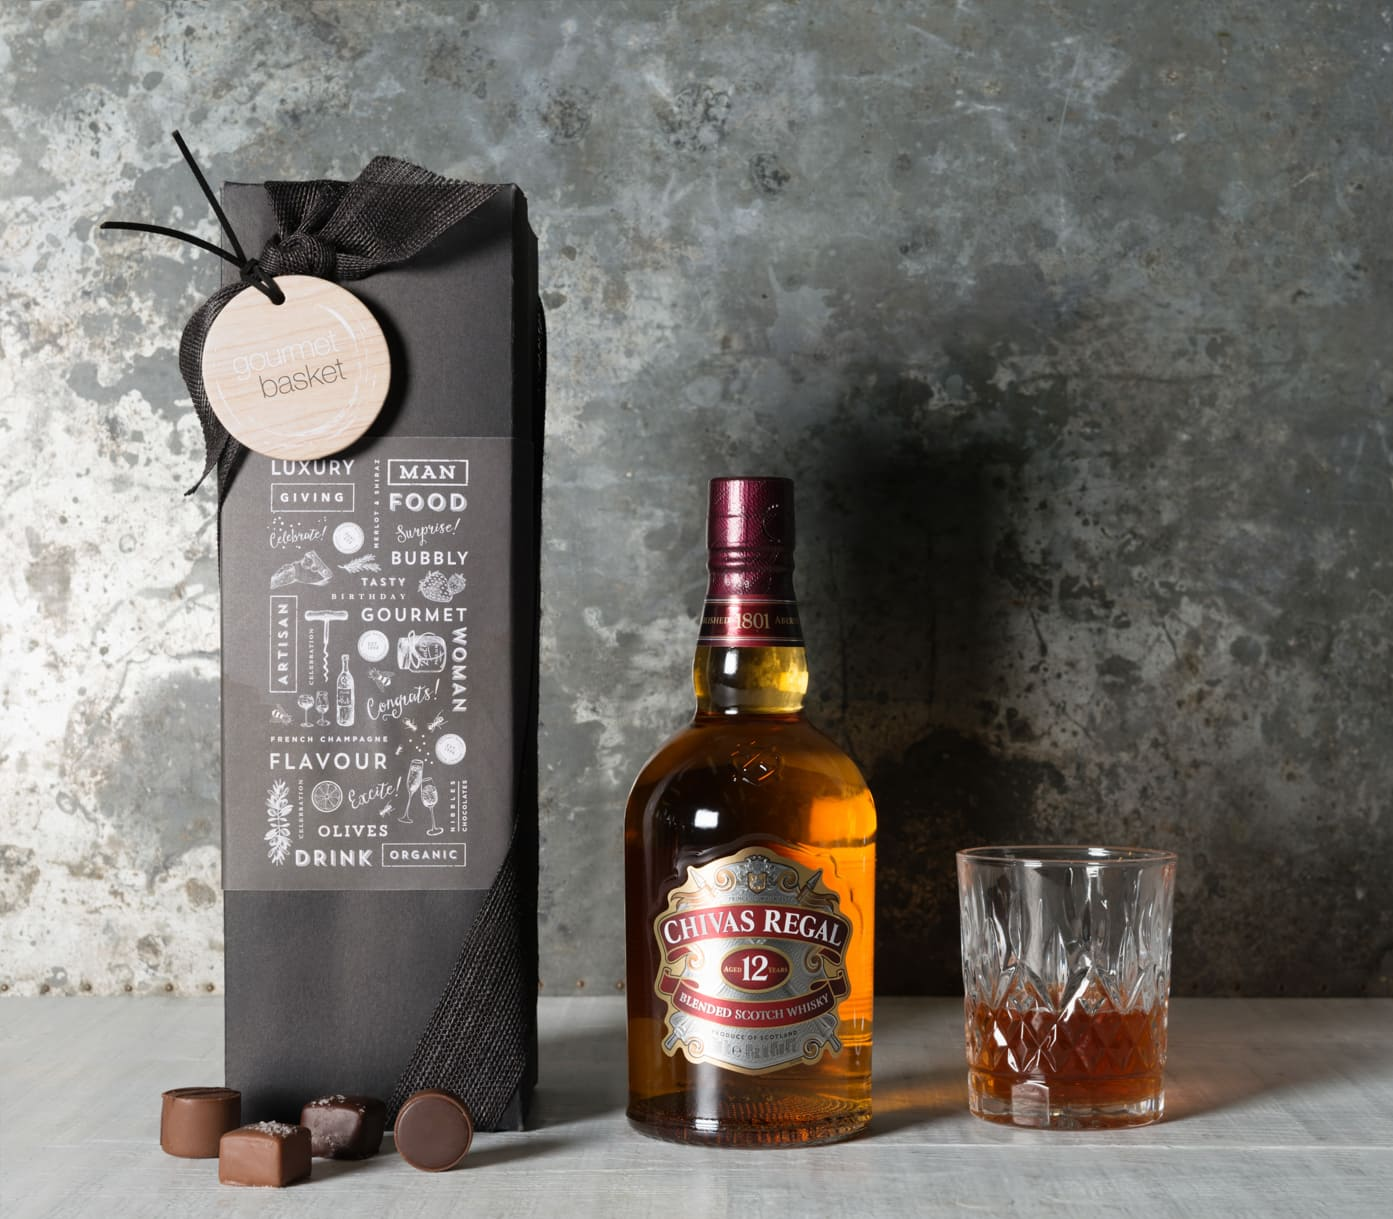Chivas Regal: (605, 458, 895, 1165)
